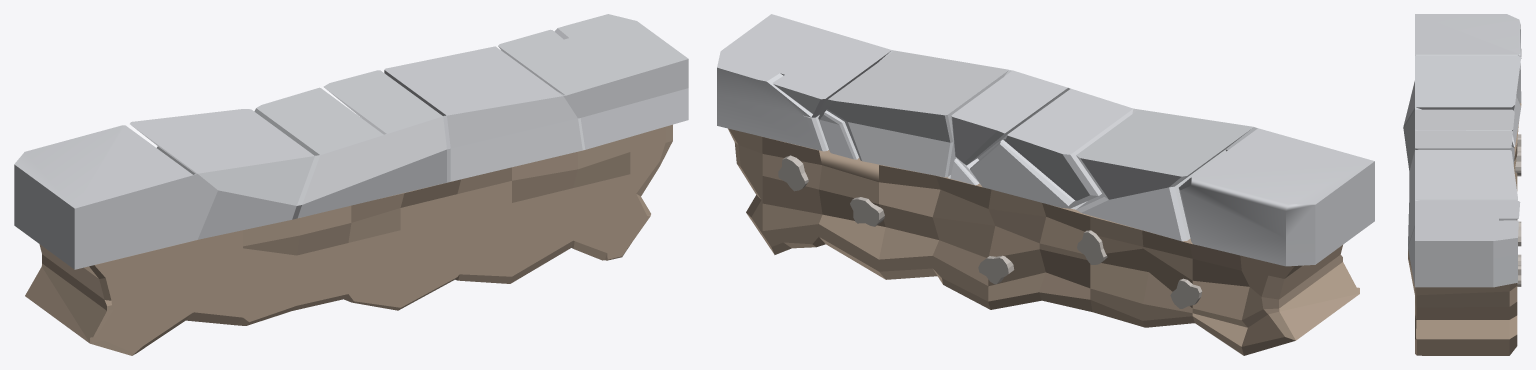
Rendered from MarblePlatform.fbx.
3 renders of one model, left to right at view 1: azimuth 30°, elevation 25°; view 2: azimuth 150°, elevation 25°; view 3: azimuth 270°, elevation 25°, orthographic. The views are drawn at different scales.
Parts seen in each view (by area): view 1: polySurface74; view 2: polySurface74; view 3: polySurface74.
Part boxes in pixels (x1,y1,x2,y2): polySurface74: (14,14,688,355); polySurface74: (717,14,1374,355); polySurface74: (1403,14,1521,355).
Size of the model in its own units: 10.51 by 3.09 by 2.31.
